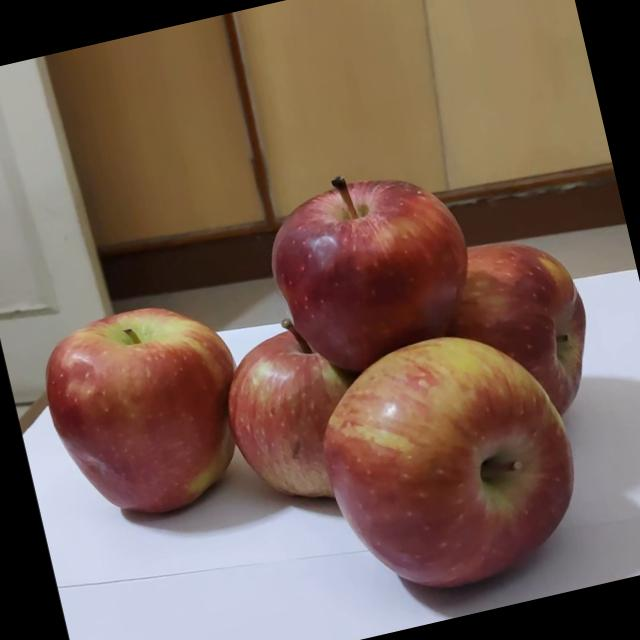apple: (292, 303, 614, 625), (20, 275, 292, 555), (252, 144, 498, 402), (380, 215, 630, 467), (207, 294, 420, 538)
